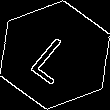L_NE: (25, 25, 85, 85)
